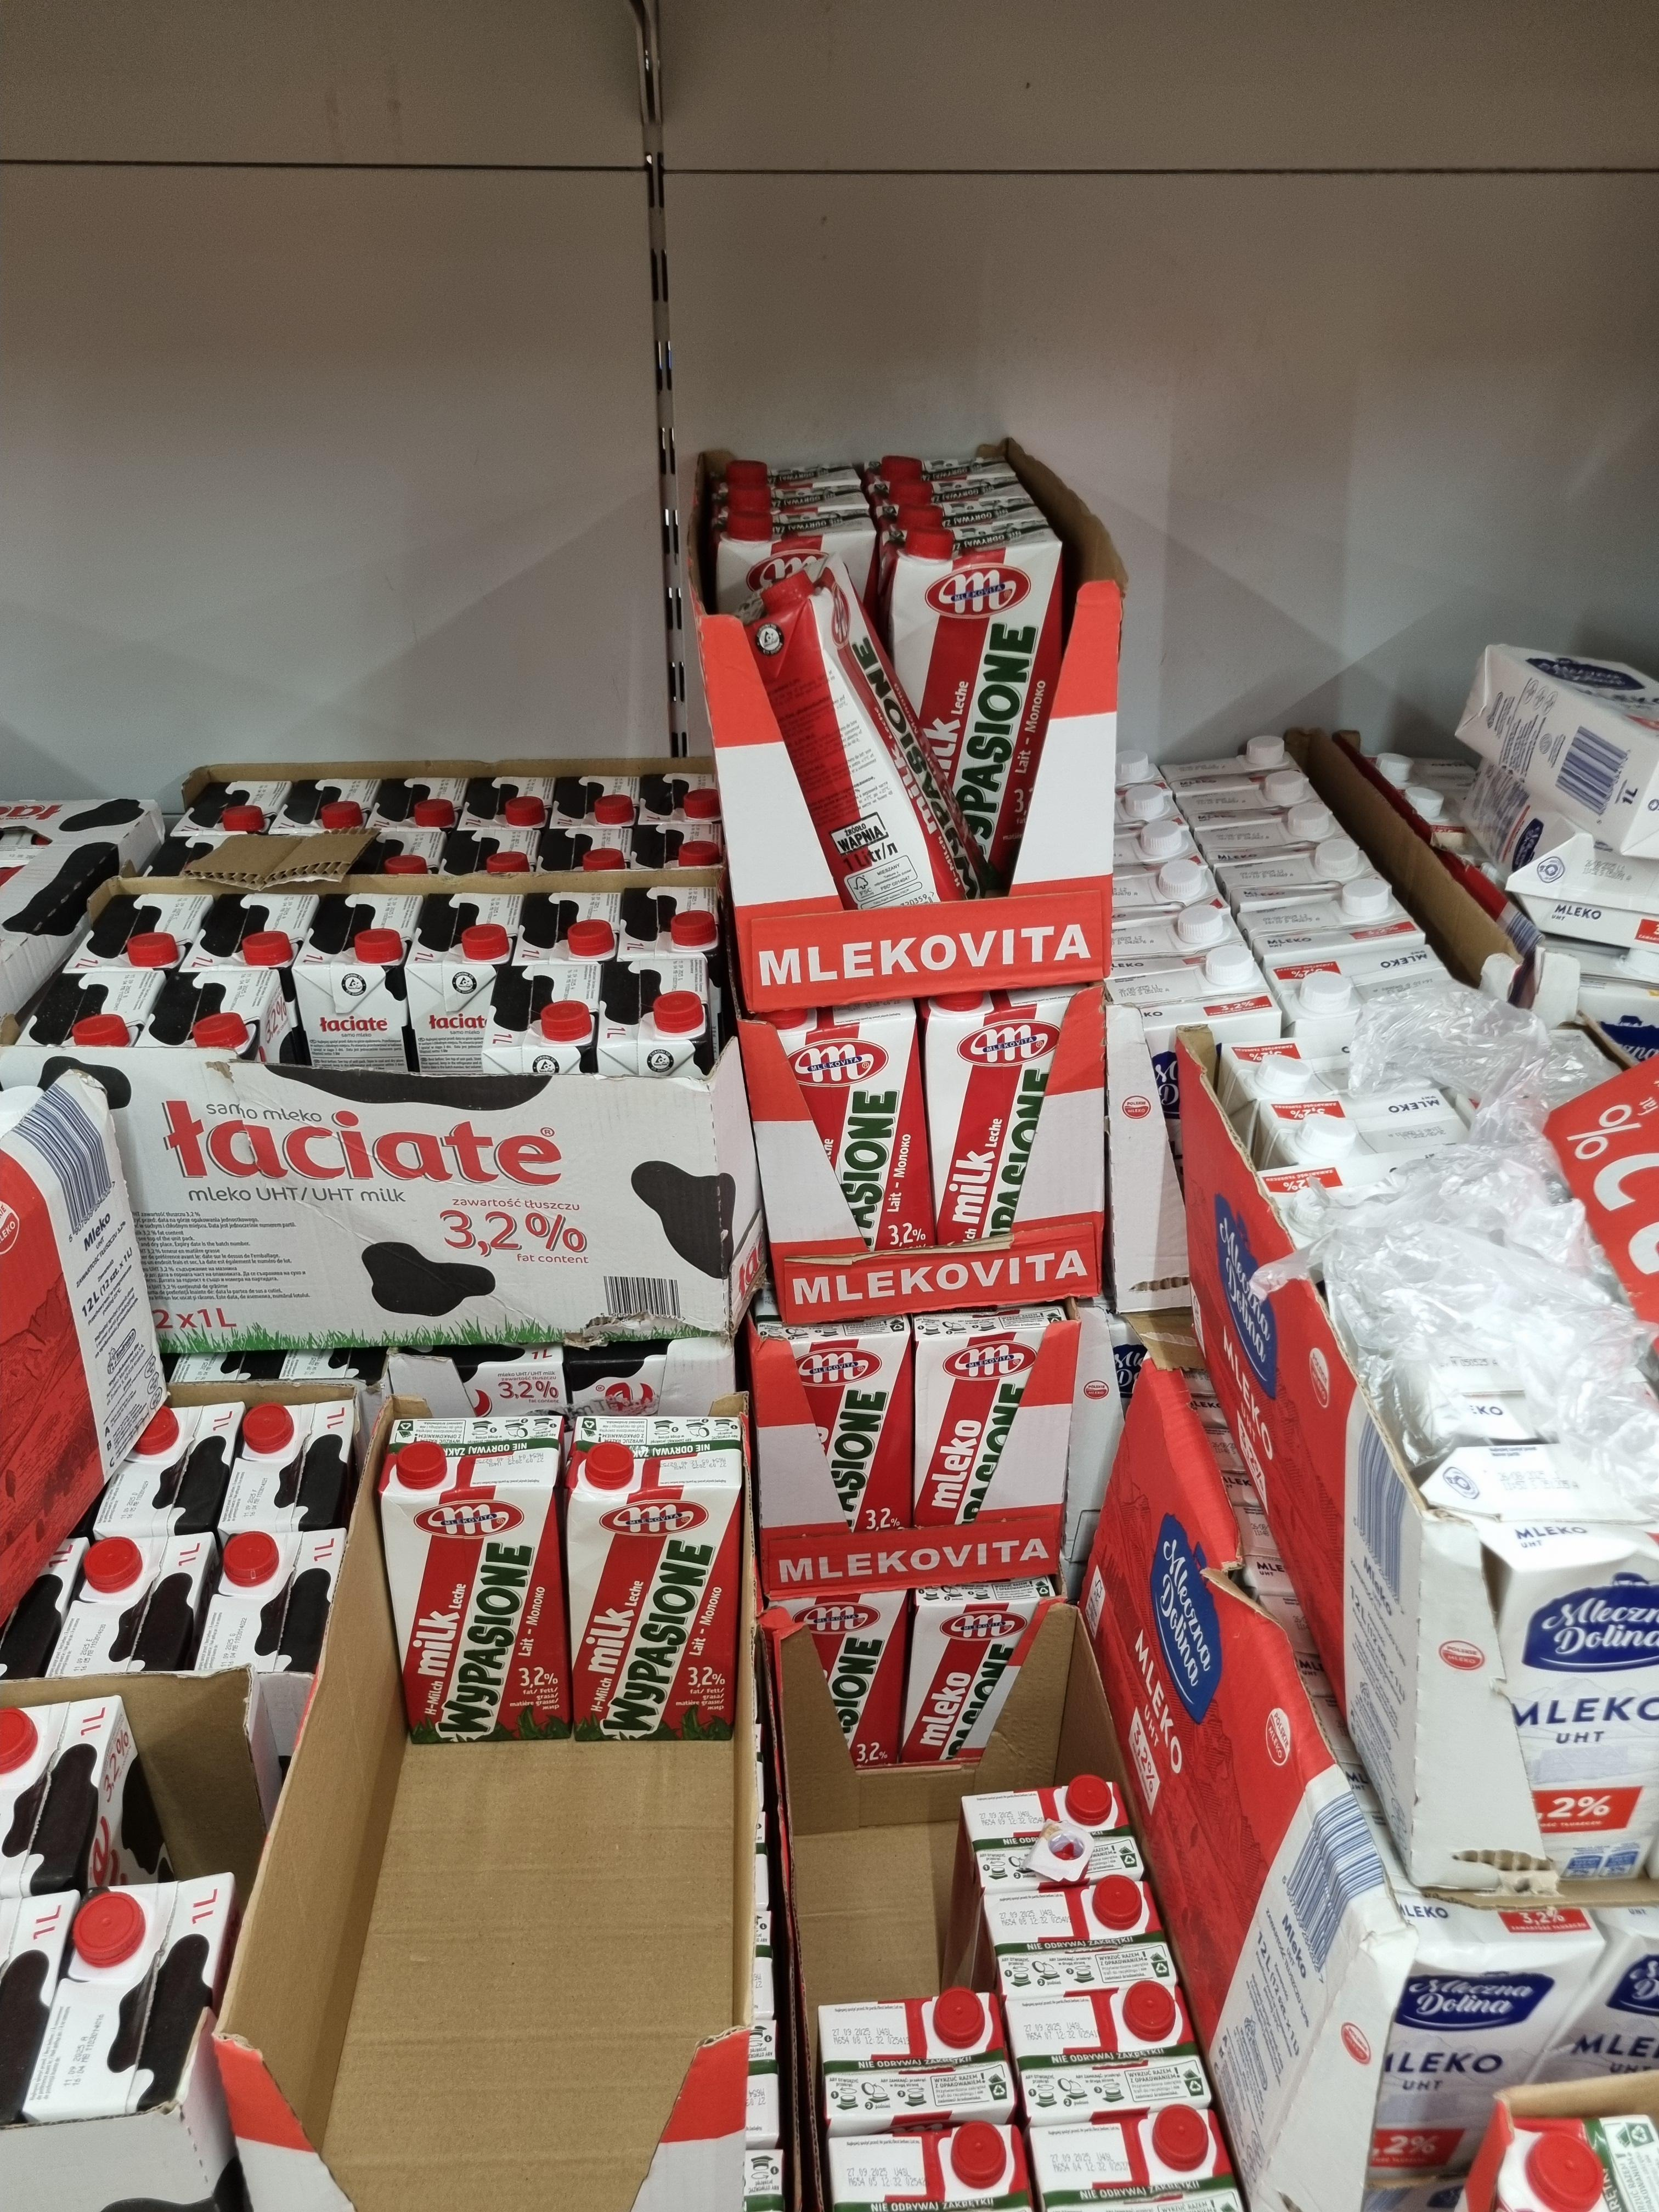Milk: (737, 571, 971, 925), (383, 1407, 573, 1749), (561, 1413, 748, 1737), (884, 535, 1063, 871), (741, 1015, 932, 1277), (924, 996, 1096, 1245), (748, 1317, 924, 1541), (910, 1310, 1075, 1531), (908, 1588, 1056, 1770), (770, 1597, 913, 1775)
